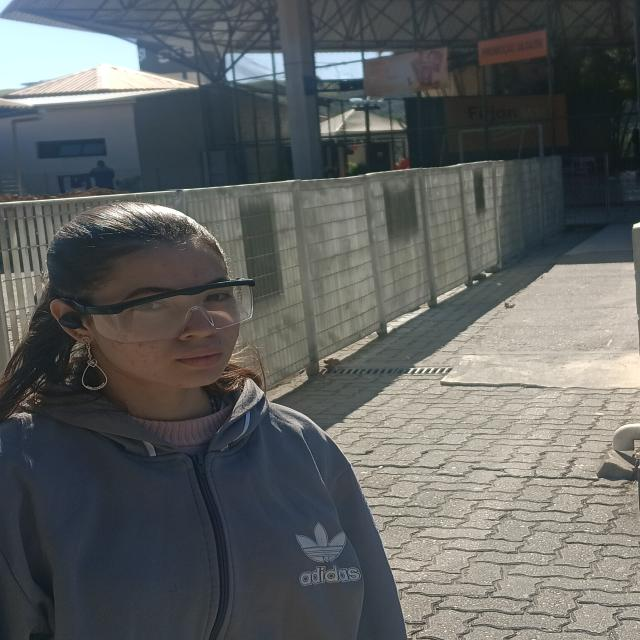oculos-epi: (56, 276, 255, 344)
